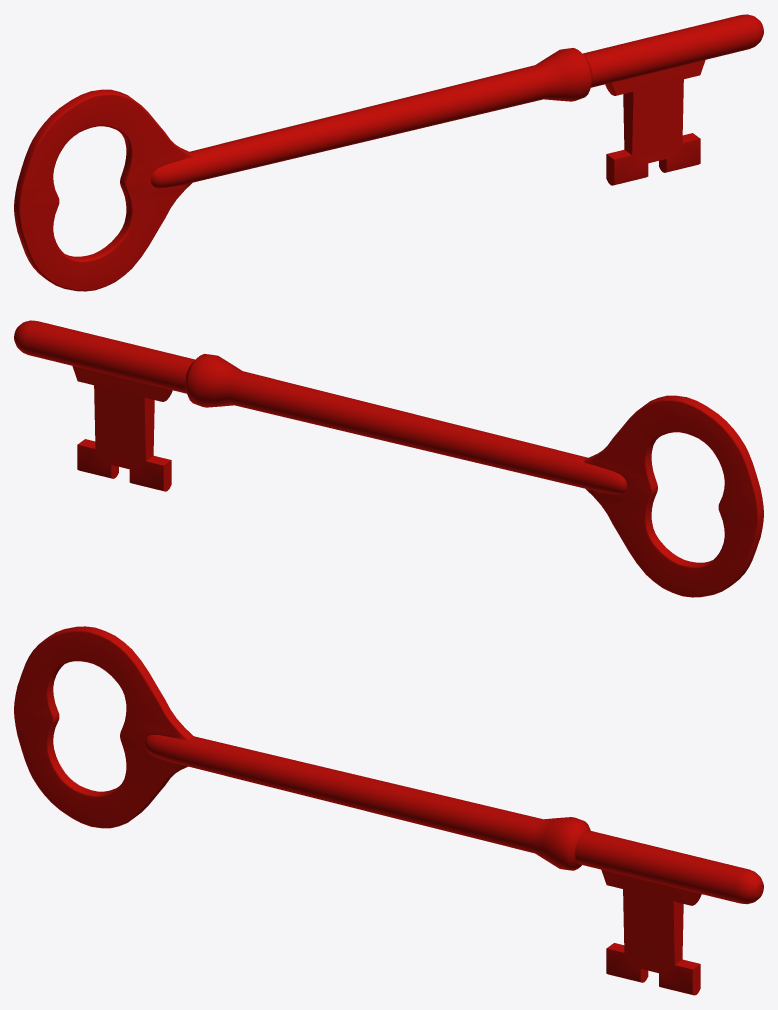
Rendered from Red_Key.fbx.
3 renders of one model, top to bottom at view 1: azimuth 30°, elevation 25°; view 2: azimuth 150°, elevation 25°; view 3: azimuth 330°, elevation 25°, orthographic.
Parts seen in each view (by area): view 1: key1_low; view 2: key1_low; view 3: key1_low.
Part boxes in pixels (x1=…): key1_low: x1=14, y1=14, x2=763, y2=291; key1_low: x1=14, y1=320, x2=763, y2=597; key1_low: x1=14, y1=626, x2=763, y2=995.
Size of the model in its own units: 19.27 by 5.4 by 1.21.
